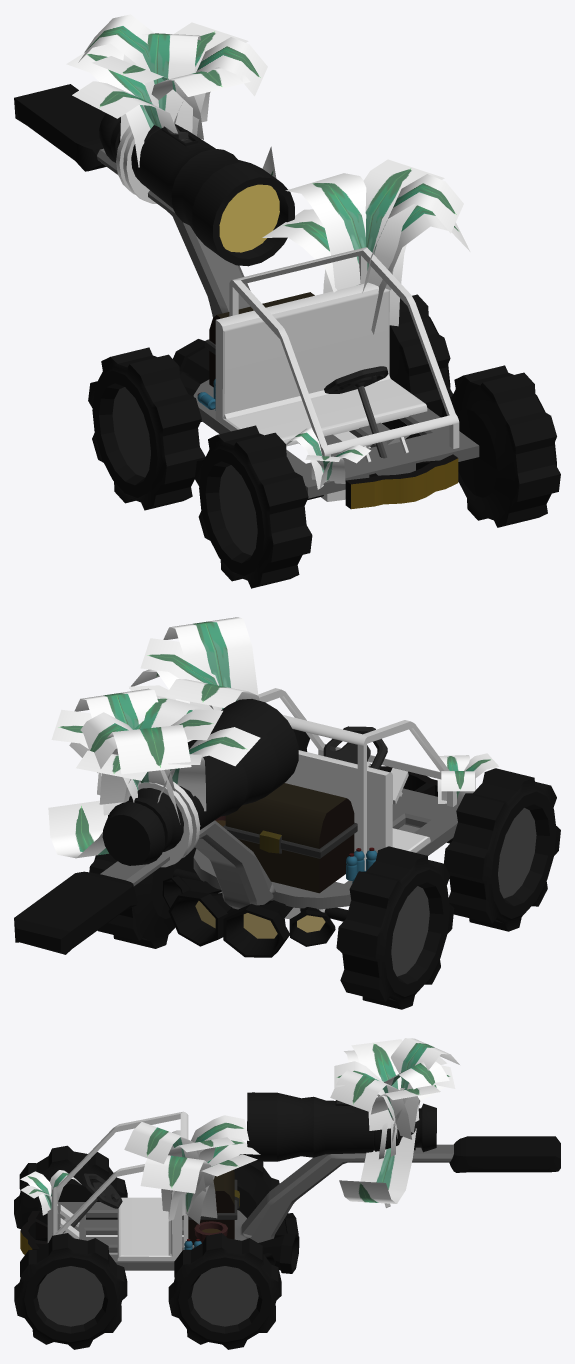
File: car_exp.fbx
3 views of the same model, one above another, from view 1: azimuth 30°, elevation 25°; view 2: azimuth 150°, elevation 25°; view 3: azimuth 270°, elevation 25° (orthographic). The views are drawn at different scales.
Parts seen in each view (by area): view 1: Wielen6, Stoel1, Wielen5, zAKLAMP, Spatel2, Metalbars2, pasted__pasted___pPlane1 (×2), _pPlane3 (×2), pasted__pasted___pPlane2 (×2), pasted__pasted___pPlane3 (×3), _pPlane1 (×2), _pPlane2 (×2) (+10 smaller); view 2: Wielen5, Spatel2, Wielen6, zAKLAMP, Koffer4, pasted__pasted___pPlane3 (×3), _pPlane3 (×2), Stoel1, Metalbars2, Uitlaat1, _pPlane1 (×2), pasted___pPlane6 (+17 smaller); view 3: Wielen6, Wielen5, Spatel2, zAKLAMP, pasted__pasted___pPlane3 (×2), Stoel1, pasted___pPlane6, _pPlane3 (×2), Metalbars2, pasted__pasted___pPlane2 (×3), pasted__pasted___pPlane1 (×2), pasted___pPlane3 (+11 smaller).
Boxes of the visible parts, x1,y1,x2,y2 form: Wielen6: (194,365,560,588); Stoel1: (215,282,427,446); Wielen5: (88,294,452,510); zAKLAMP: (99,113,294,266); Spatel2: (14,84,479,498); Metalbars2: (229,247,459,456); pasted__pasted___pPlane1 (×2): (262,173,366,292); _pPlane3 (×2): (79,14,200,140); pasted__pasted___pPlane2 (×2): (323,159,444,326); pasted__pasted___pPlane3 (×3): (286,174,470,489); _pPlane1 (×2): (72,67,250,133); _pPlane2 (×2): (66,43,203,167); Wielen5: (89,815,454,1009); Spatel2: (14,788,458,954); Wielen6: (292,729,560,931); zAKLAMP: (102,699,298,865); Koffer4: (223,783,357,893); pasted__pasted___pPlane3 (×3): (131,617,475,800); _pPlane3 (×2): (69,712,191,823); Stoel1: (285,750,430,852); Metalbars2: (258,688,456,870); Uitlaat1: (223,900,293,957); _pPlane1 (×2): (97,695,260,802); pasted___pPlane6: (48,800,108,858); Wielen6: (14,1145,127,1349); Wielen5: (168,1154,281,1349); Spatel2: (47,1136,560,1270); zAKLAMP: (247,1092,436,1161); pasted__pasted___pPlane3 (×2): (124,1122,217,1218); Stoel1: (117,1130,182,1260); pasted___pPlane6: (339,1128,416,1203); _pPlane3 (×2): (378,1038,459,1132); Metalbars2: (52,1111,188,1249); pasted__pasted___pPlane2 (×3): (20,1137,257,1221); pasted__pasted___pPlane1 (×2): (186,1115,260,1224); pasted___pPlane3: (330,1070,411,1139).
Bounding box in the file's own units: 13.01 × 13.85 × 27.61.
